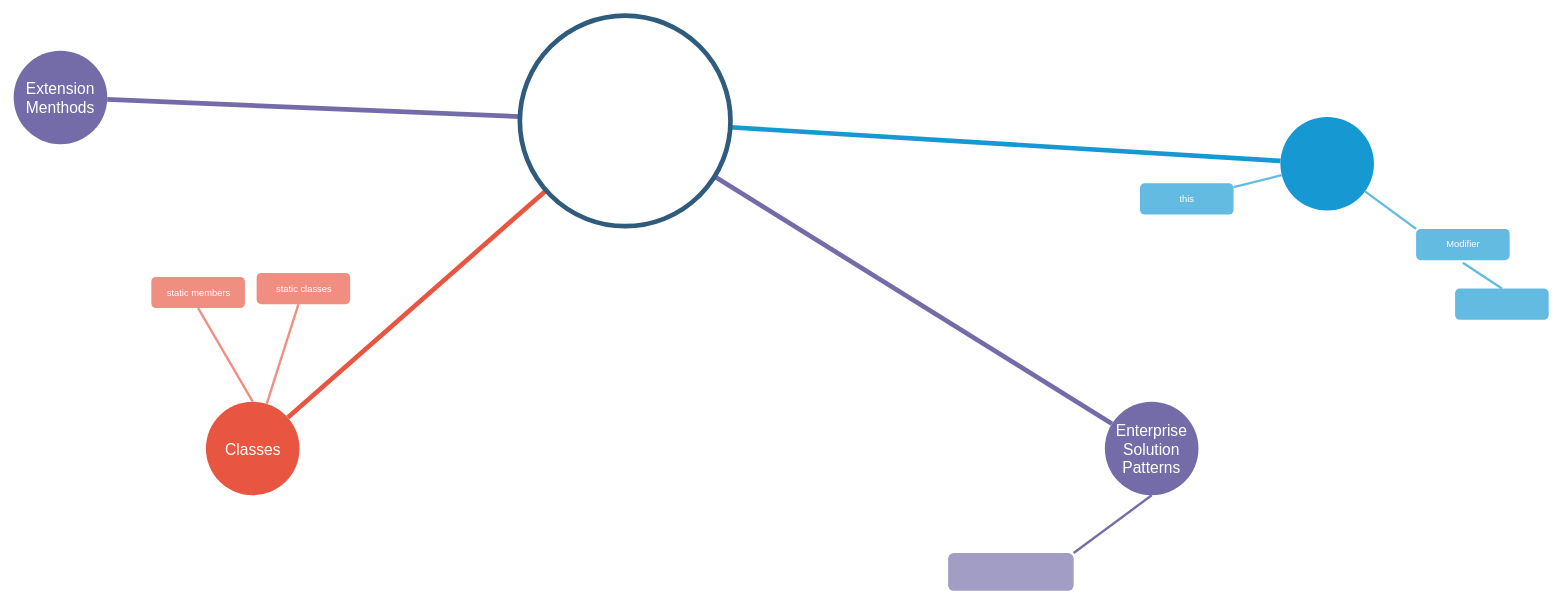
Image size: 1562x605. Some labels were removed from this diagram. Here are the shapes that lost their labels. From the top down, the centre of each, then its label:
the point at 624,120: C#
the point at 1327,163: Keywords
the point at 1501,303: static
the point at 1010,571: Implementing Singletons
